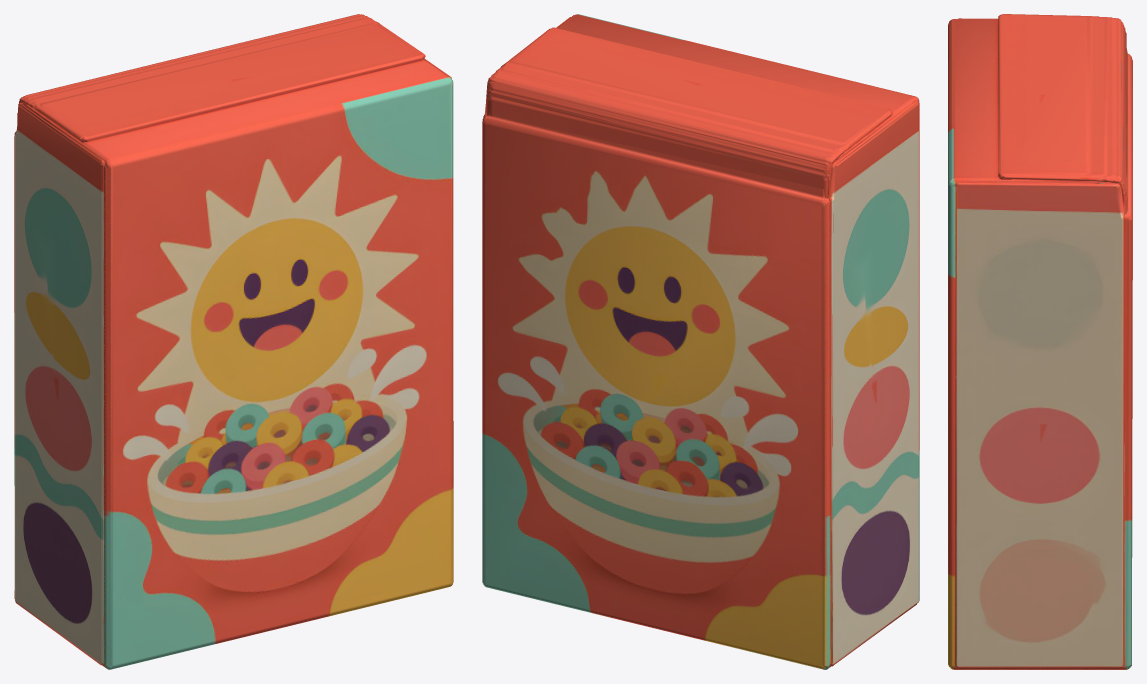
Rendered from cereal.glb.
The picture shows the model from 3 angles, left to right: view 1: azimuth 30°, elevation 25°; view 2: azimuth 150°, elevation 25°; view 3: azimuth 270°, elevation 25°; orthographic projection. The views are drawn at different scales.
Visible parts, largest first — view 1: Cereal; view 2: Cereal; view 3: Cereal.
Part boxes in pixels (left/top/right/bottom): Cereal: left=14, top=14, right=453, bottom=669; Cereal: left=482, top=14, right=919, bottom=669; Cereal: left=948, top=14, right=1132, bottom=669.
Bounding box in the file's own units: 0.7129 × 0.998 × 0.3379.
1 material, 1 textured.
